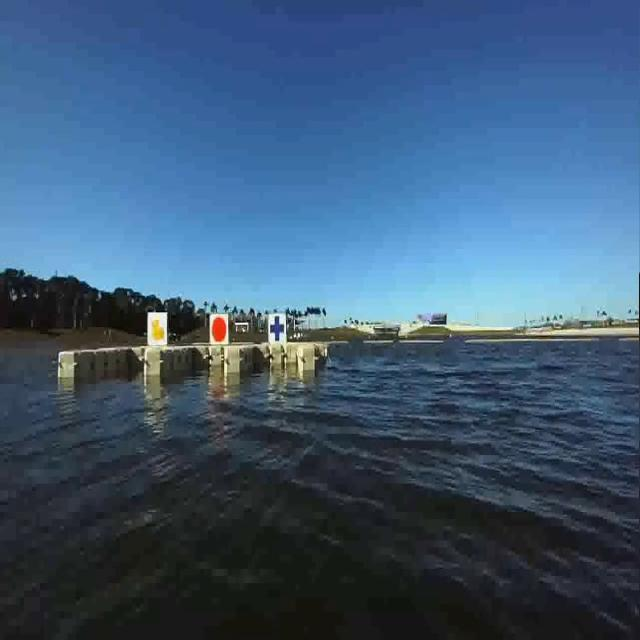blue-cross: (268, 306, 289, 348)
red-buoy: (213, 319, 227, 344)
red-dot: (208, 314, 230, 344)
yellow-duck: (151, 316, 164, 338)
